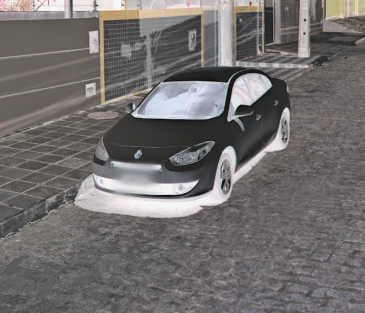car: (89, 65, 292, 209)
